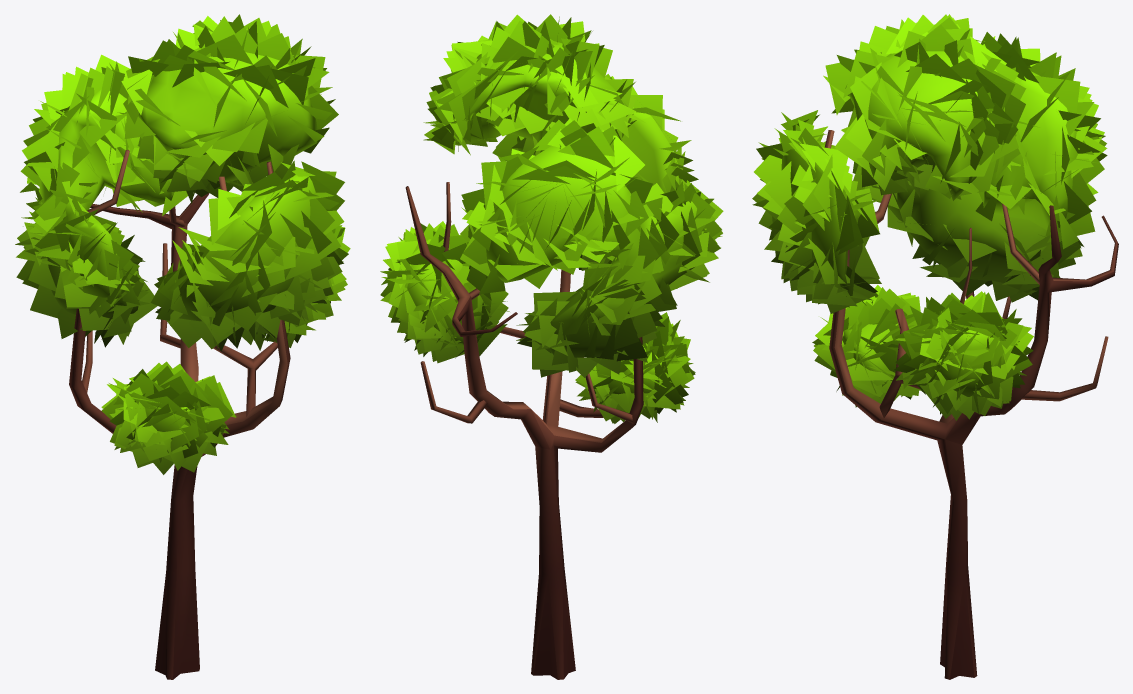
Rendered from Forest_Tree_7E.fbx.
3 views of the same model, side by side, from view 1: azimuth 30°, elevation 25°; view 2: azimuth 150°, elevation 25°; view 3: azimuth 270°, elevation 25° (orthographic). The views are drawn at different scales.
Parts seen in each view (by area): view 1: Forest_Tree_7E; view 2: Forest_Tree_7E; view 3: Forest_Tree_7E.
Part boxes in pixels (<box>): Forest_Tree_7E: <box>15,14,350,679</box>; Forest_Tree_7E: <box>380,14,723,679</box>; Forest_Tree_7E: <box>752,14,1118,679</box>.
Size of the model in its own units: 482 by 933 by 473.
